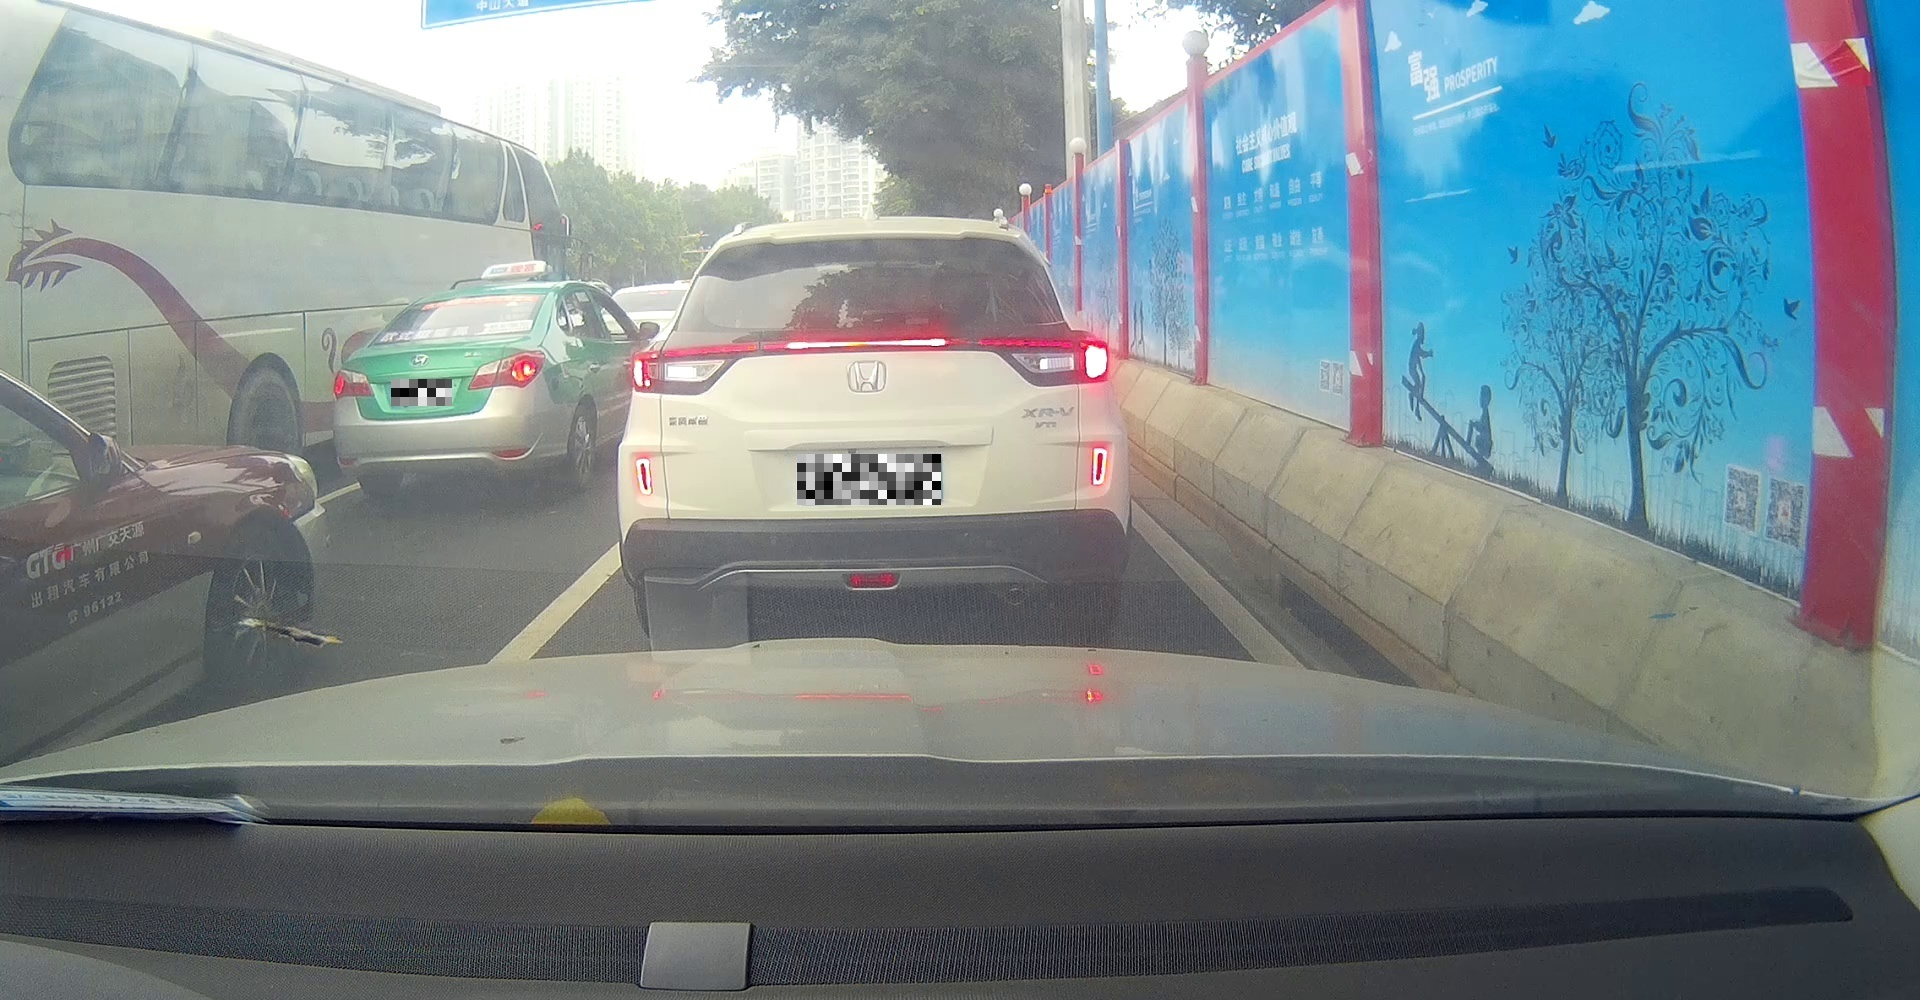L_light: (629, 341, 759, 396), (333, 368, 376, 400)
R_light: (978, 336, 1110, 388), (467, 350, 546, 391)
T_light: (763, 338, 971, 350), (429, 332, 465, 339)
day-brake: (616, 216, 1131, 640)
day-no: (331, 280, 556, 501)
plate_1: (391, 379, 452, 406)
plate_2: (797, 454, 941, 505)
